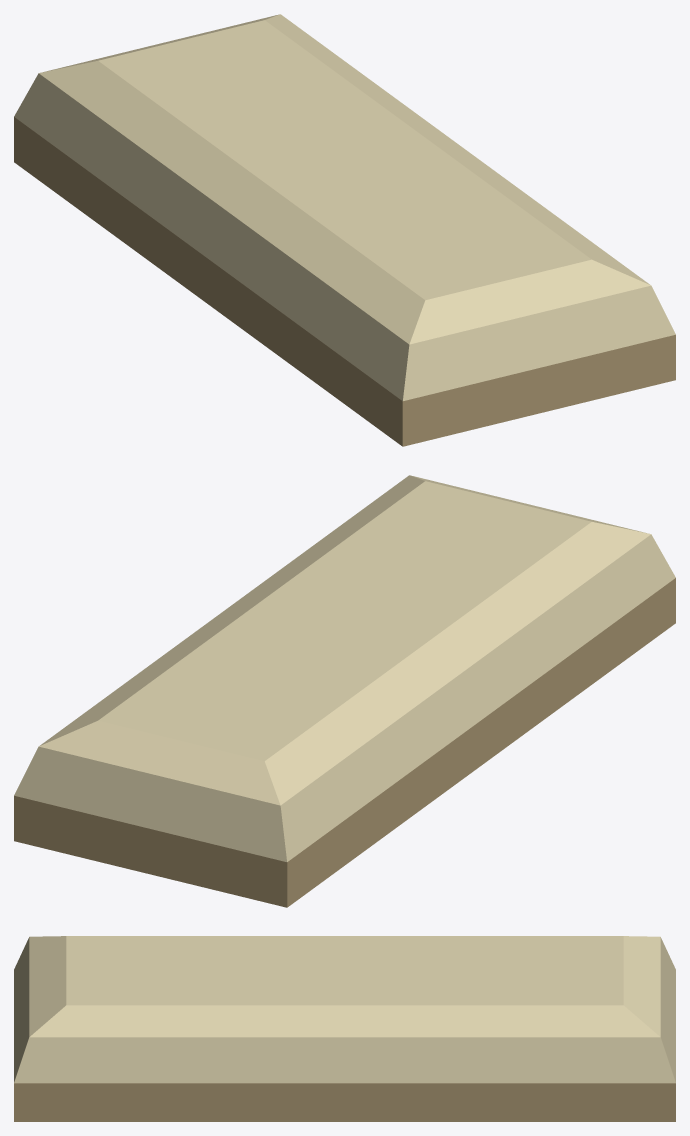
Rendered from StreetCordMedium_01.glb.
3 renders of one model, top to bottom at view 1: azimuth 30°, elevation 25°; view 2: azimuth 150°, elevation 25°; view 3: azimuth 270°, elevation 25°, orthographic. The views are drawn at different scales.
Visible parts, largest first — view 1: StreetCordMedium_01; view 2: StreetCordMedium_01; view 3: StreetCordMedium_01.
Boxes of the visible parts, x1,y1,x2,y2 form: StreetCordMedium_01: (14, 14, 675, 446); StreetCordMedium_01: (14, 475, 675, 907); StreetCordMedium_01: (14, 936, 675, 1121).
Size of what is drawn, in the model's own units: 0.3844 by 0.1492 by 0.9474.
Materials: 1 (1 with a texture image).
